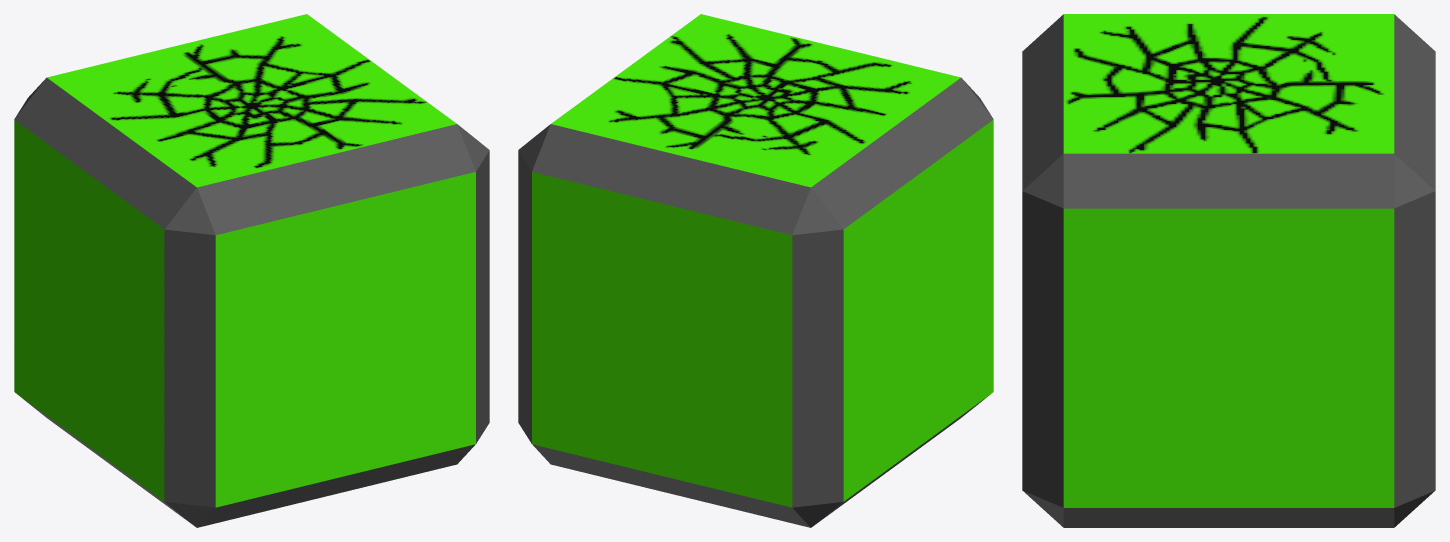
The model's file is Block_Crack.fbx.
The picture shows the model from 3 angles, left to right: view 1: azimuth 30°, elevation 25°; view 2: azimuth 150°, elevation 25°; view 3: azimuth 270°, elevation 25°; orthographic projection. The views are drawn at different scales.
Parts seen in each view (by area): view 1: pCube2; view 2: pCube2; view 3: pCube2.
Part boxes in pixels (box(x1,y1,x2,y2)): pCube2: box(14, 14, 489, 527); pCube2: box(518, 14, 993, 527); pCube2: box(1022, 14, 1435, 527).
Size of the model in its own units: 1 by 1 by 1.
Materials: 2 (1 with a texture image).
